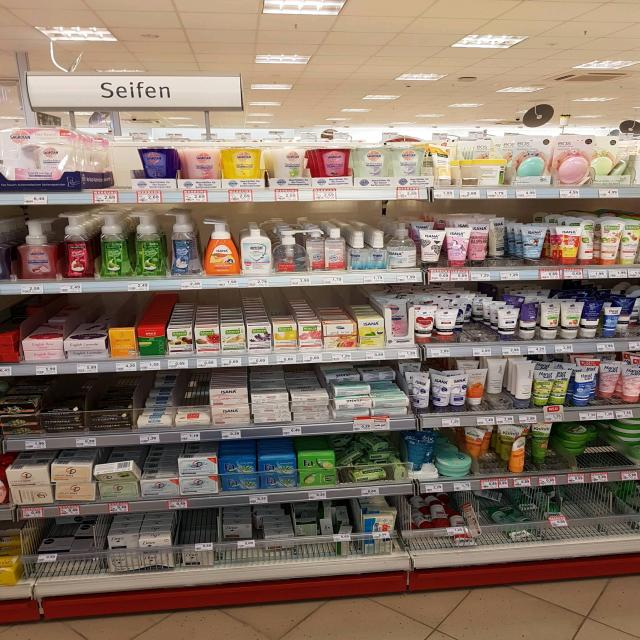void: (178, 512, 215, 554), (493, 384, 512, 407)
